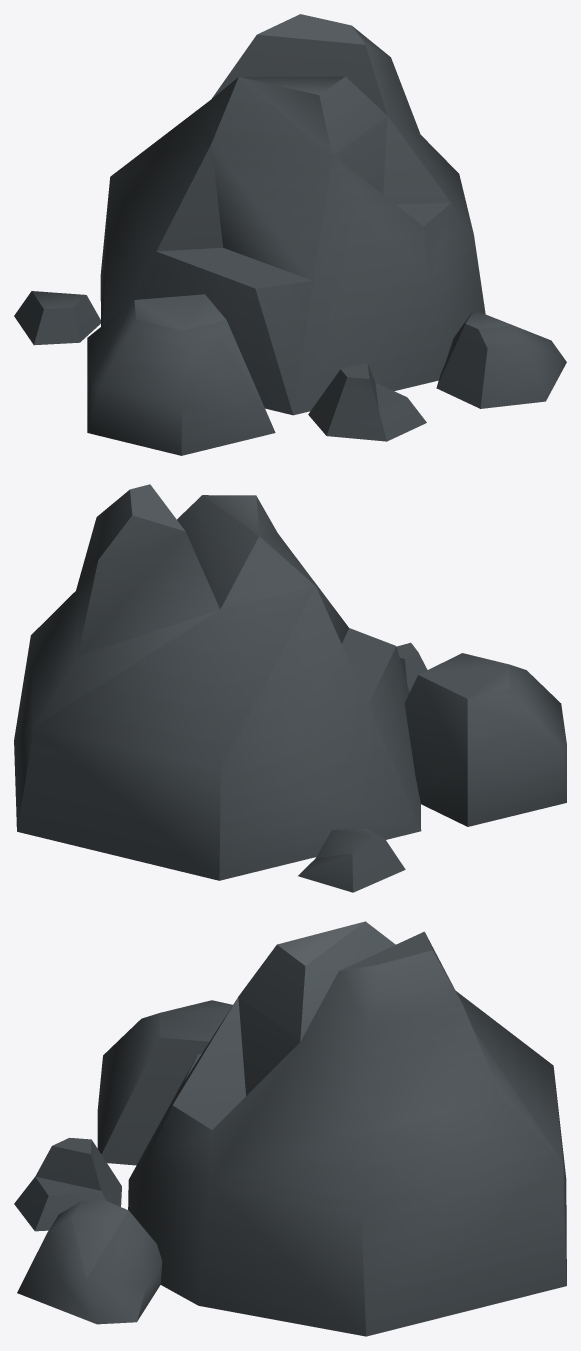
The model's file is rock.glb.
The picture shows the model from 3 angles, top to bottom: view 1: azimuth 30°, elevation 25°; view 2: azimuth 150°, elevation 25°; view 3: azimuth 270°, elevation 25°; orthographic projection. The views are drawn at different scales.
Parts seen in each view (by area): view 1: rocks_B; view 2: rocks_B; view 3: rocks_B.
Boxes of the visible parts, x1,y1,x2,y2 form: rocks_B: [14, 14, 566, 455]; rocks_B: [14, 484, 566, 892]; rocks_B: [14, 921, 566, 1336].
Bounding box in the file's own units: 3.5 × 1.98 × 3.23.
Materials: 1 (1 with a texture image).
